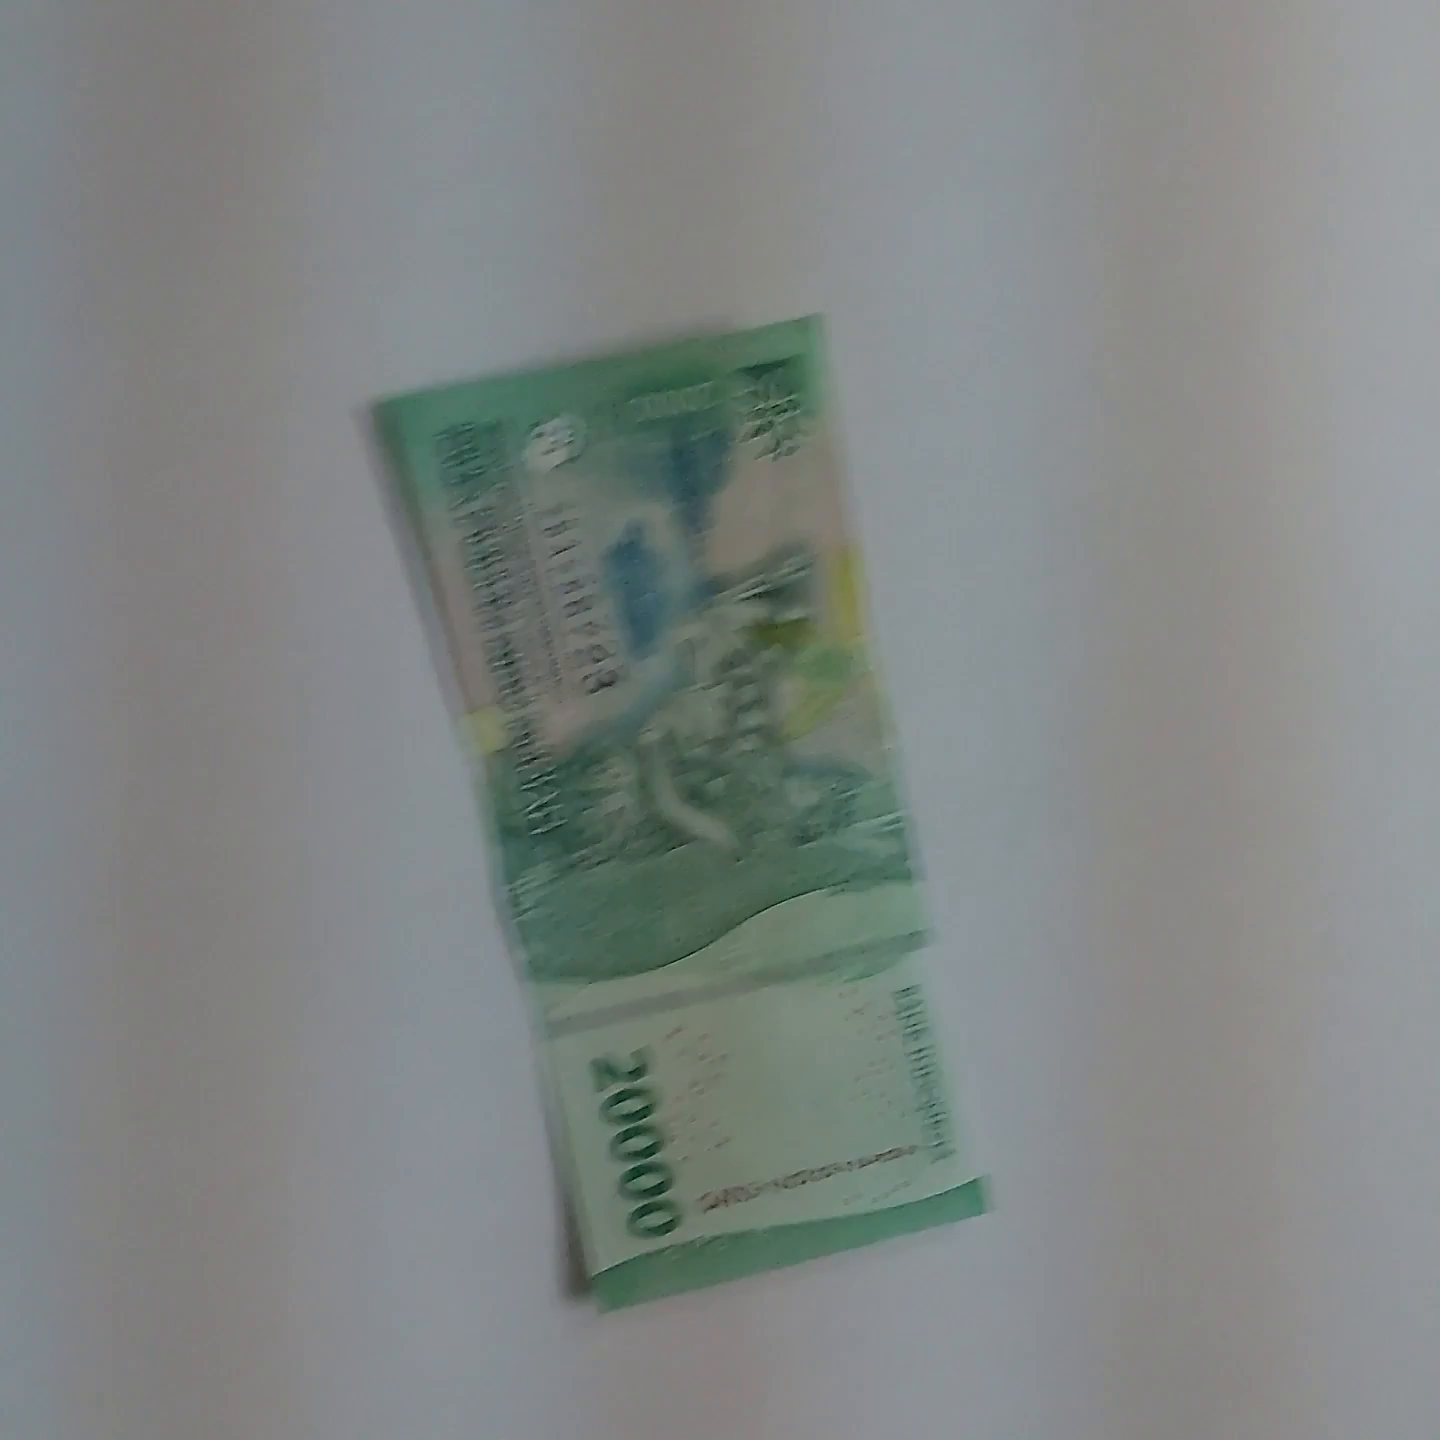20k: (334, 345, 992, 1286)
